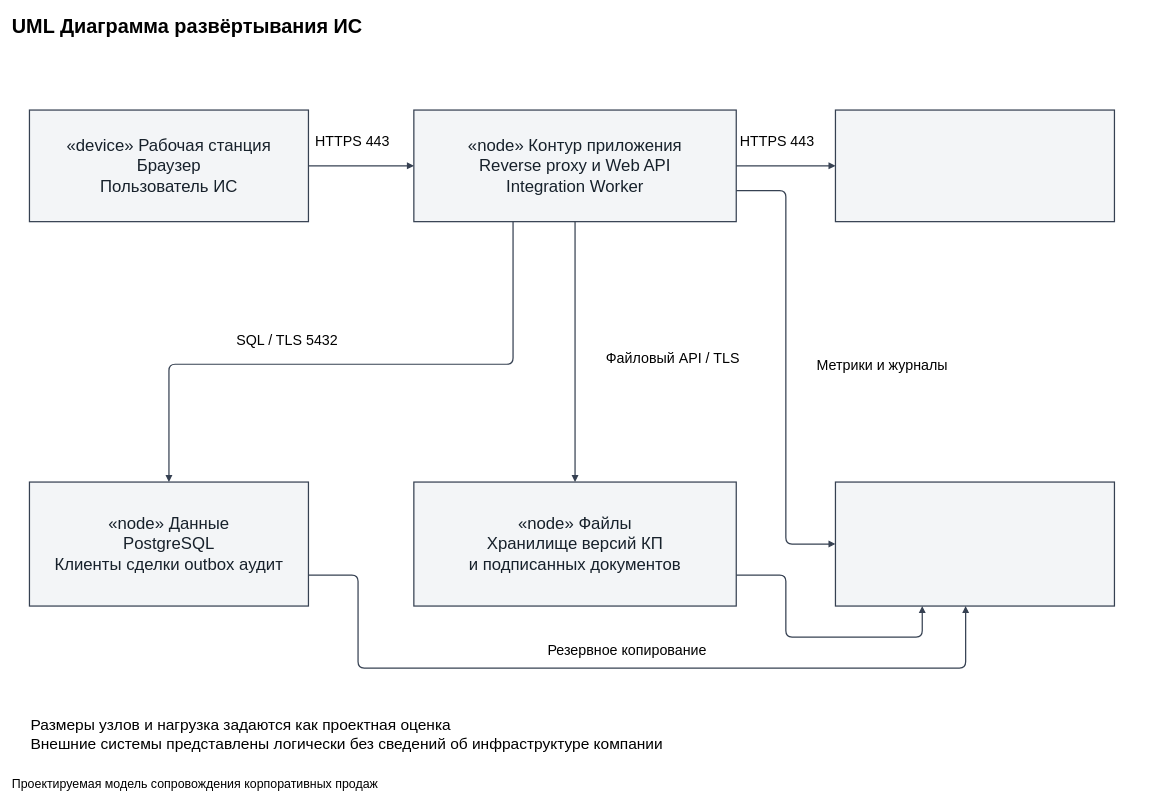
The diagram is 1149 pixels wide and 802 high, and some of its shapes have lost their labels. The centre of each missing label's shape, as x and y in pixels:
"«node» Внешний контур IdP и система подключения" goes at point 975,165.
"«node» Эксплуатация Мониторинг Резервные копии" goes at point 975,543.
